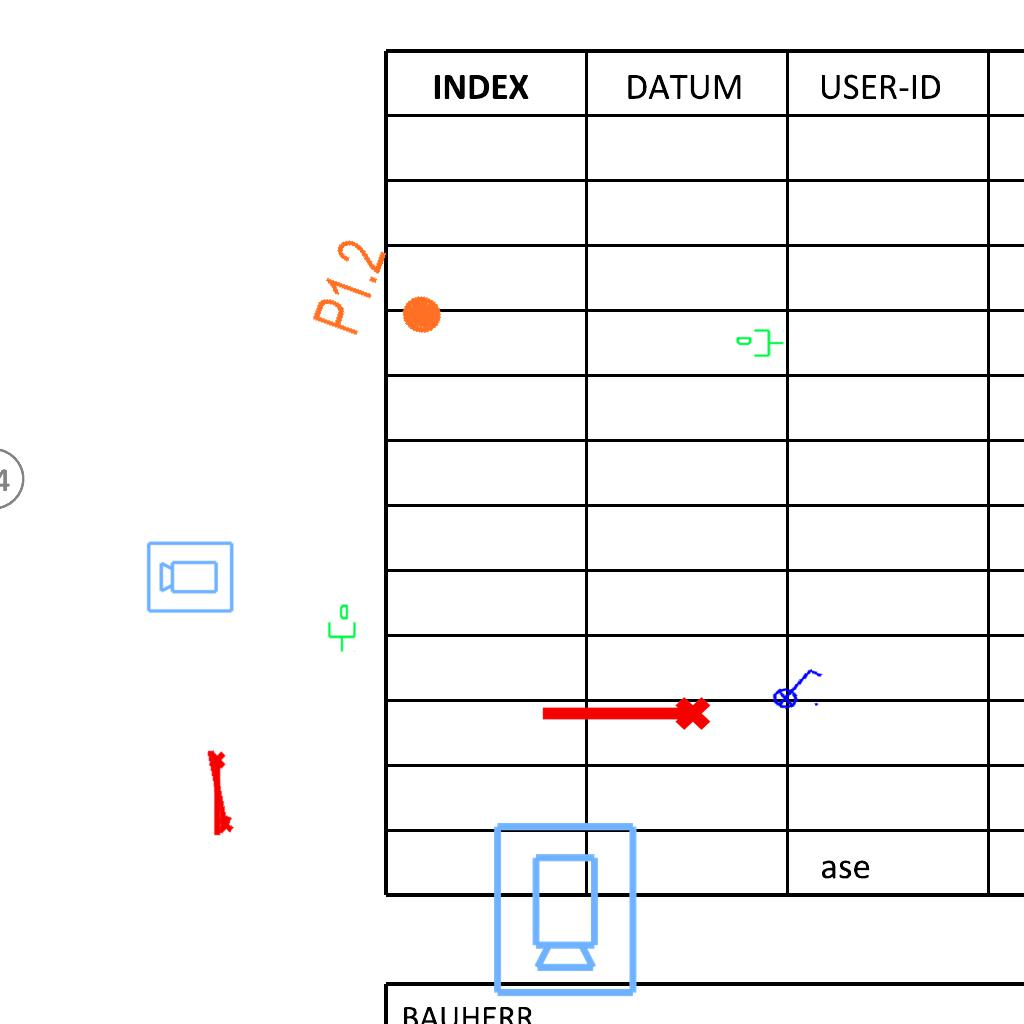ASR_Ansaugoeffnung: (537, 693, 713, 739), (197, 746, 237, 837), (207, 750, 230, 838)
Ausschalter_beleuchtet: (764, 658, 828, 716)
Datenanschluss_einfach: (324, 603, 358, 653), (735, 327, 785, 361)
Downlight_LED_Einbauleuchten_Flur: (307, 233, 460, 365)
KFO_Kamera_mit_Festobjektiv: (487, 818, 641, 1000), (145, 538, 236, 615)
